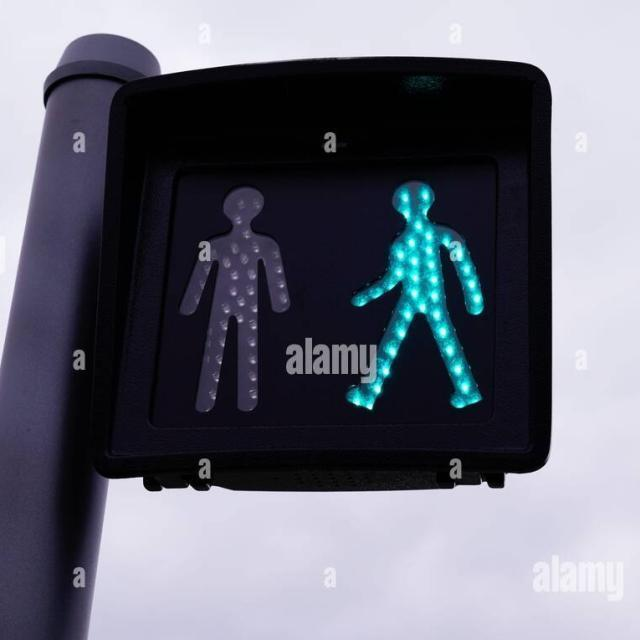geen-crossing: (350, 168, 490, 412)
